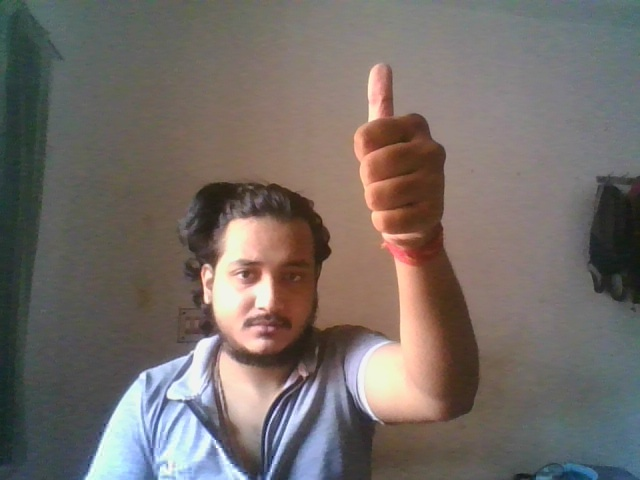ThumbsUp: (352, 62, 447, 244)
